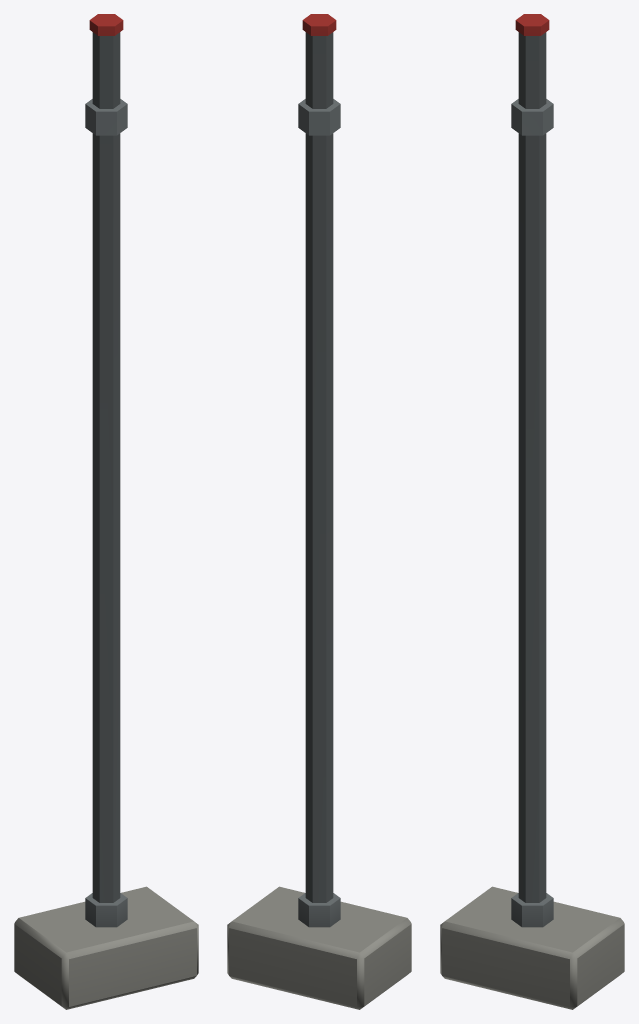
Rendered from fence_construction_post.glb.
3 views of the same model, side by side, from view 1: azimuth 30°, elevation 25°; view 2: azimuth 150°, elevation 25°; view 3: azimuth 330°, elevation 25° (orthographic).
Parts seen in each view (by area): view 1: fence_construction_post; view 2: fence_construction_post; view 3: fence_construction_post.
Boxes of the visible parts, x1,y1,x2,y2 form: fence_construction_post: (14, 14, 198, 1009); fence_construction_post: (227, 14, 411, 1009); fence_construction_post: (440, 14, 624, 1009).
Bounding box in the file's own units: 0.3 × 2 × 0.2.
